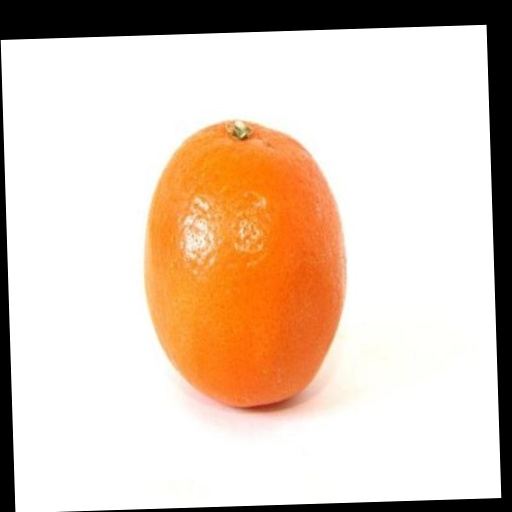fruit: (145, 121, 345, 406)
